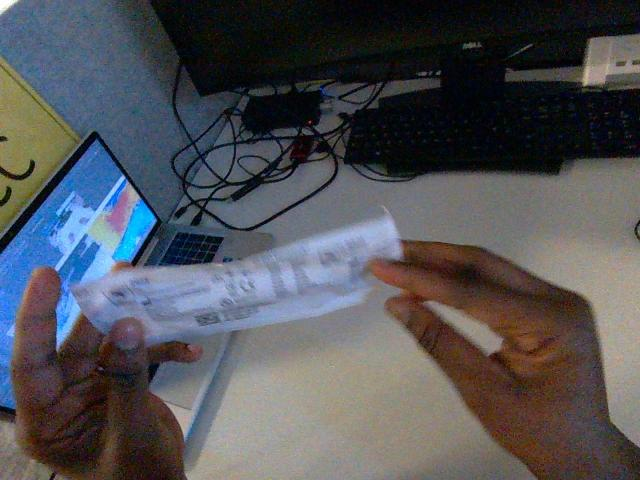syringe: (72, 214, 401, 345)
